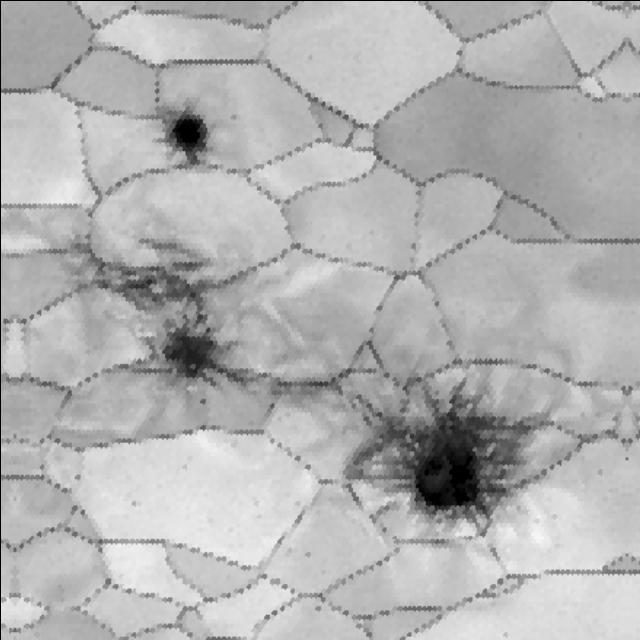good_void: (316, 355, 560, 548), (67, 231, 258, 391), (139, 95, 208, 173), (299, 547, 314, 559), (308, 602, 324, 612), (226, 111, 238, 122), (129, 497, 140, 508), (198, 395, 208, 406)
